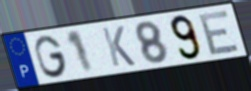1: (65, 28, 96, 76)
8: (134, 19, 171, 65)
9: (168, 13, 203, 61)
E: (197, 8, 242, 57)
G: (33, 34, 70, 80)
K: (100, 25, 138, 69)
